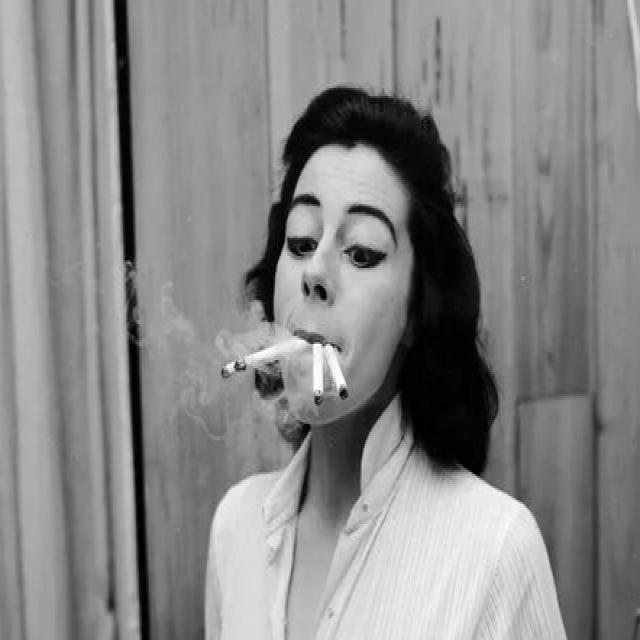cigarette: (219, 330, 314, 388), (324, 342, 352, 404), (311, 342, 326, 408)
